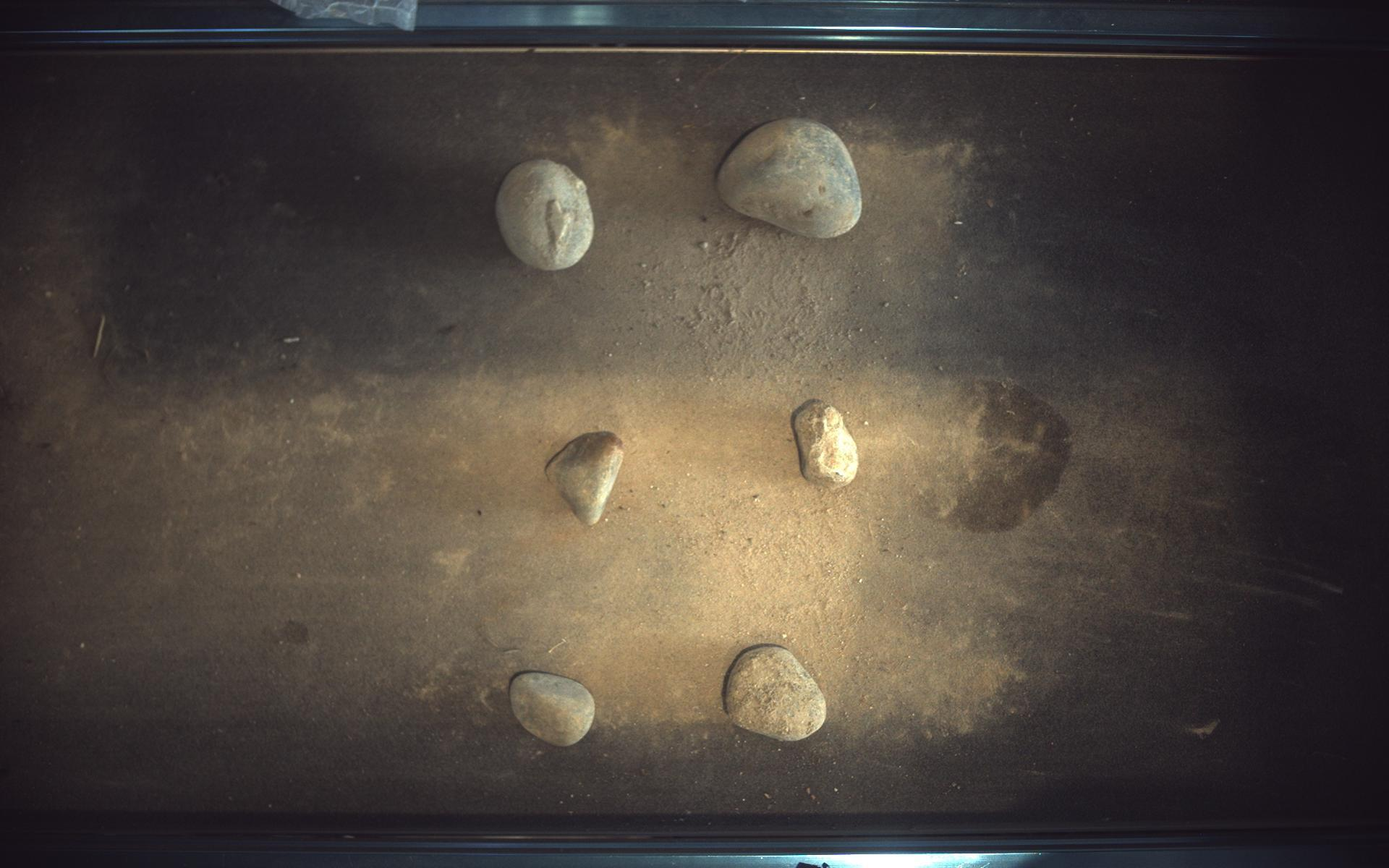stone: (718, 118, 864, 238), (496, 158, 594, 271), (725, 647, 828, 742), (545, 431, 625, 526), (510, 673, 595, 748), (793, 399, 860, 490)
